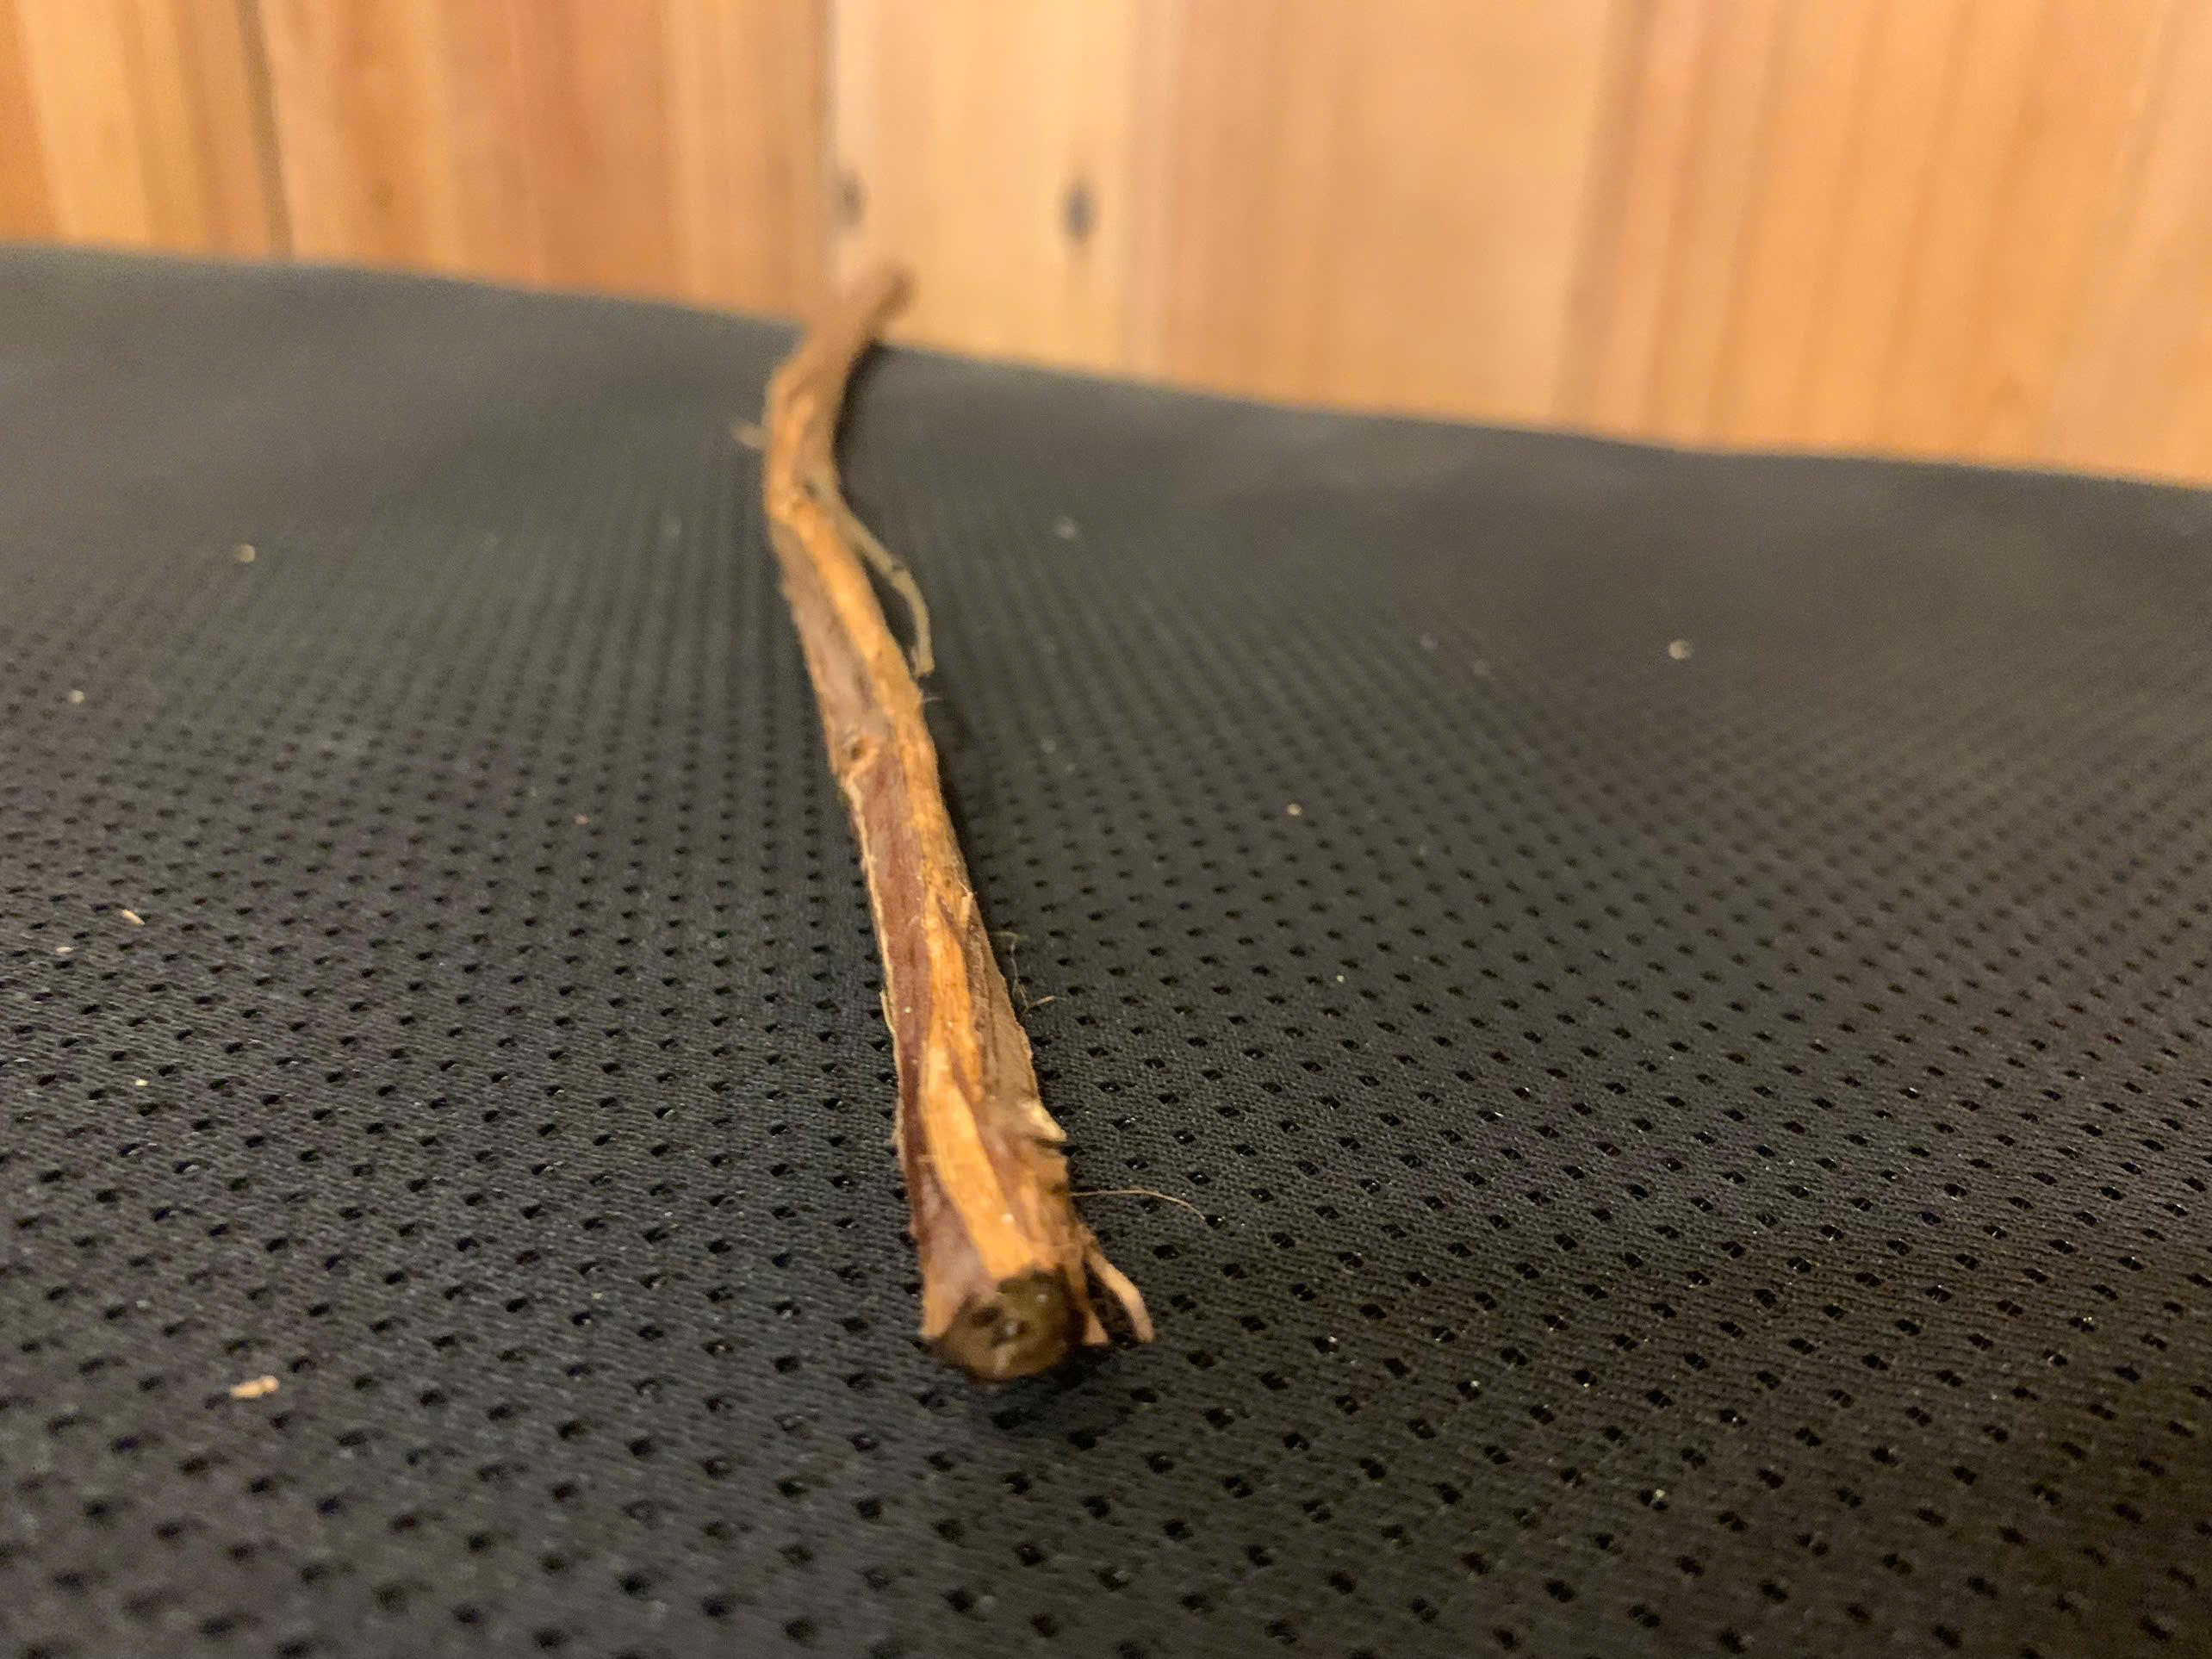Huu co: (761, 253, 1132, 1389)
